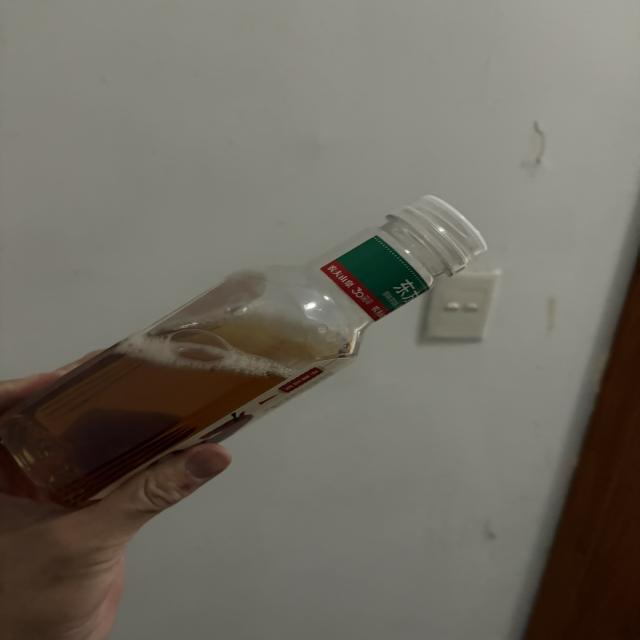medium: (0, 196, 485, 508)
